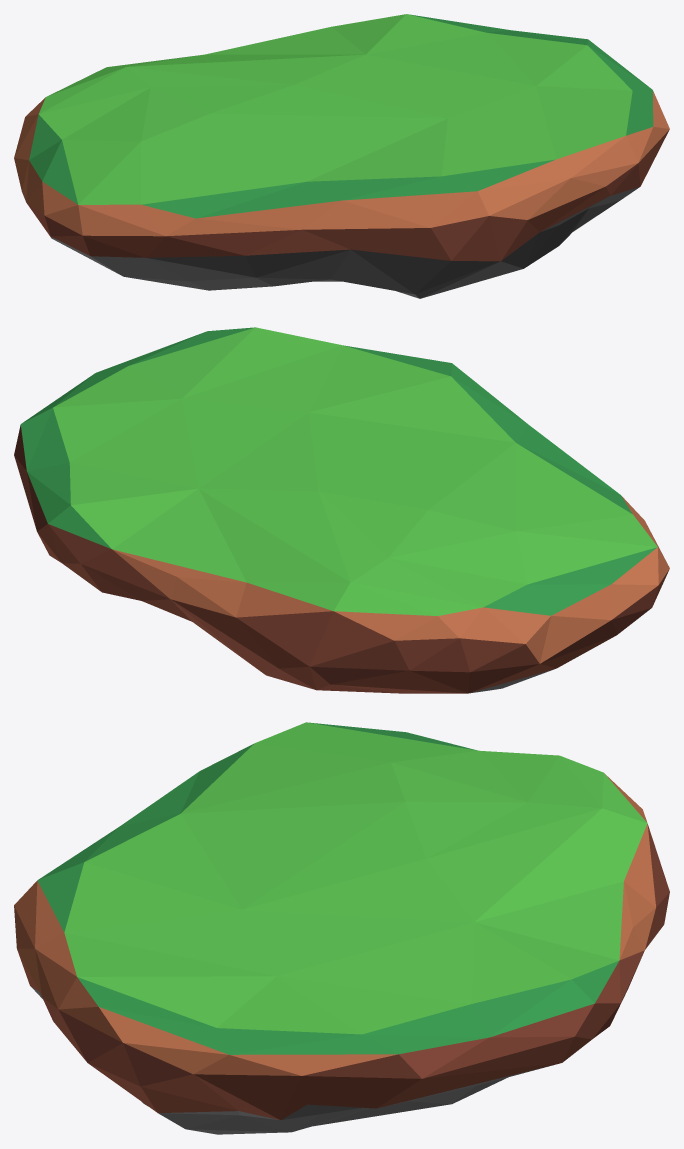
Rendered from Elevator1.glb.
3 renders of one model, top to bottom at view 1: azimuth 30°, elevation 25°; view 2: azimuth 150°, elevation 25°; view 3: azimuth 270°, elevation 25°, orthographic. The views are drawn at different scales.
Parts seen in each view (by area): view 1: Icosphere; view 2: Icosphere; view 3: Icosphere.
Part boxes in pixels (x1,y1,x2,y2): Icosphere: [14, 14, 669, 298]; Icosphere: [14, 327, 669, 693]; Icosphere: [14, 722, 669, 1134].
Bounding box in the file's own units: 25.67 × 6.53 × 20.08.
Materials: 1 (1 with a texture image).
